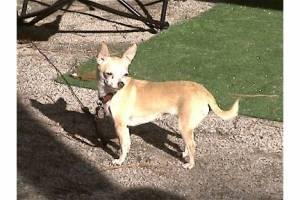dog-chihuahua: (95, 40, 136, 89)
